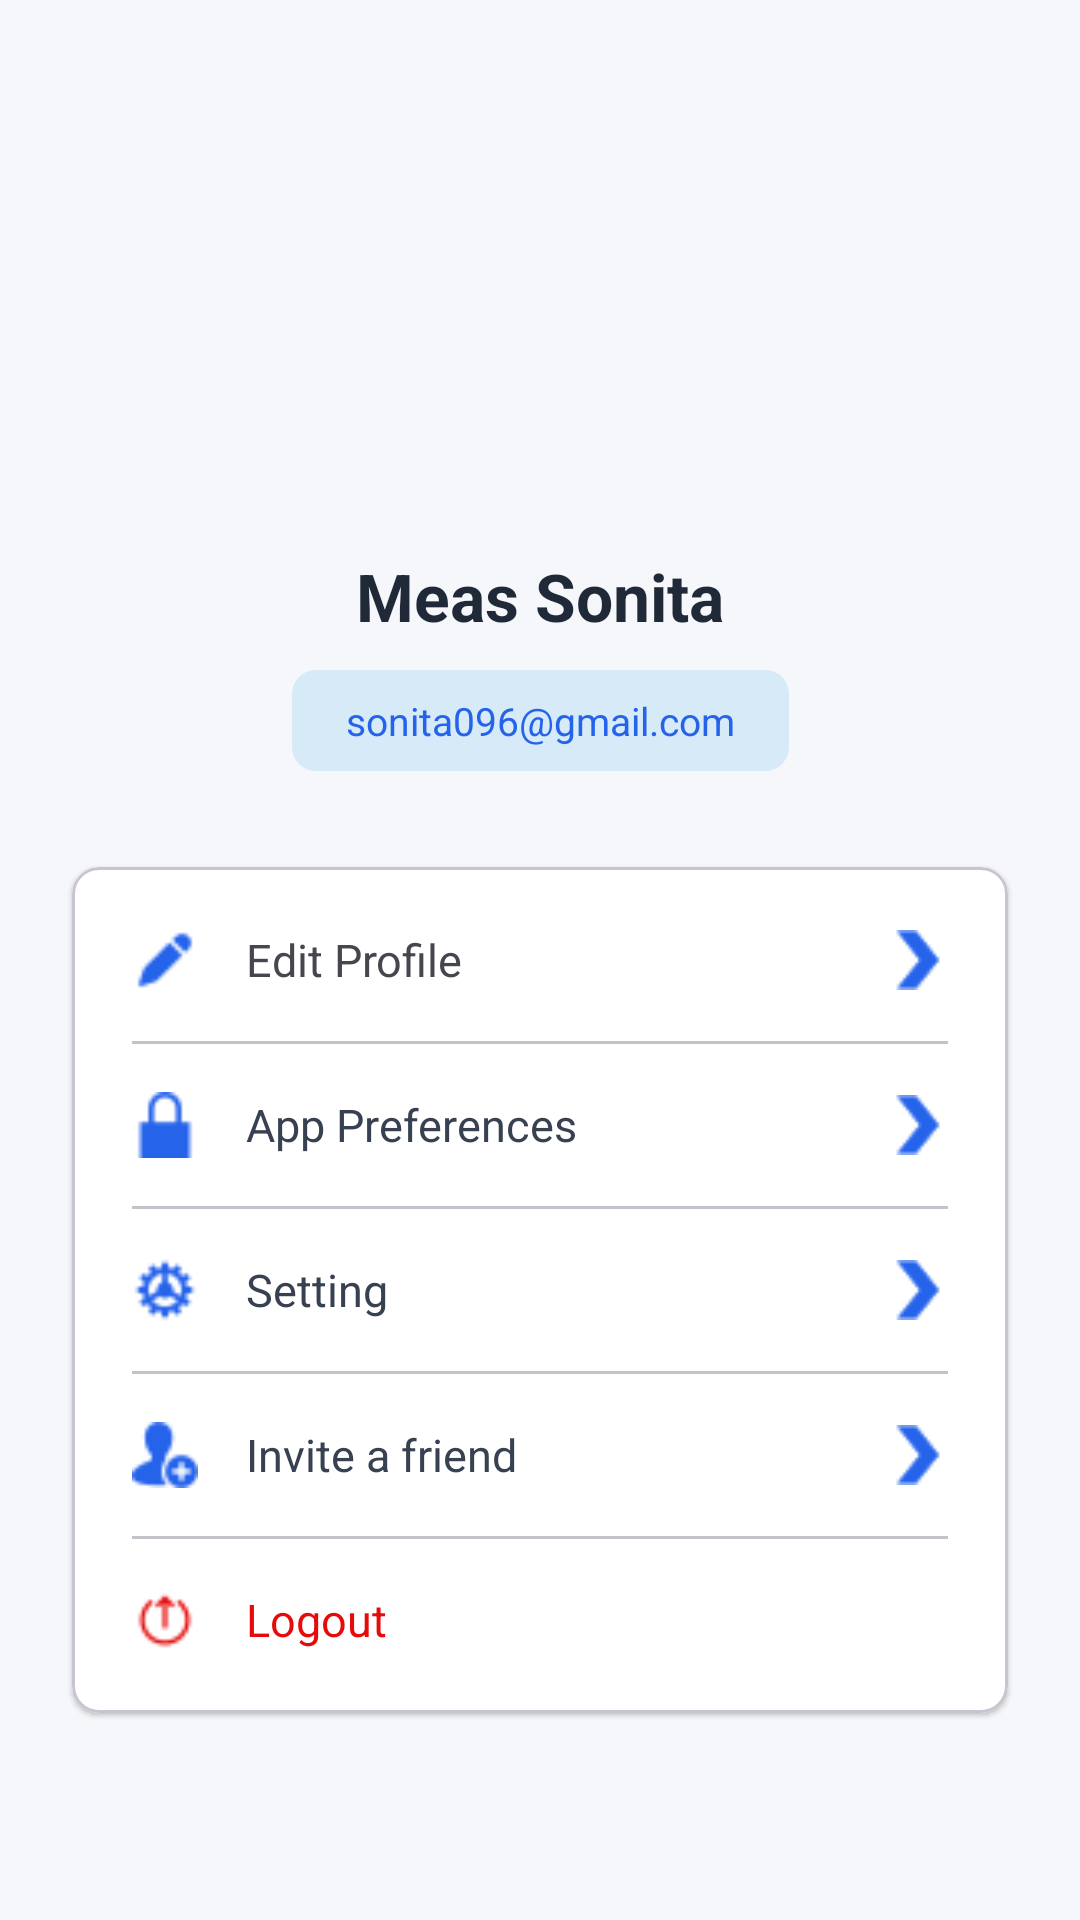

Locate icon controls on the screen. Image size 1080x1920, boxes as box=[x1, y1, x2, y2].
add user: box=[132, 1422, 198, 1488]
chevron right: box=[896, 930, 940, 990], box=[896, 1095, 940, 1155], box=[896, 1260, 940, 1320], box=[896, 1425, 940, 1485]
lock: box=[138, 1092, 192, 1158]
